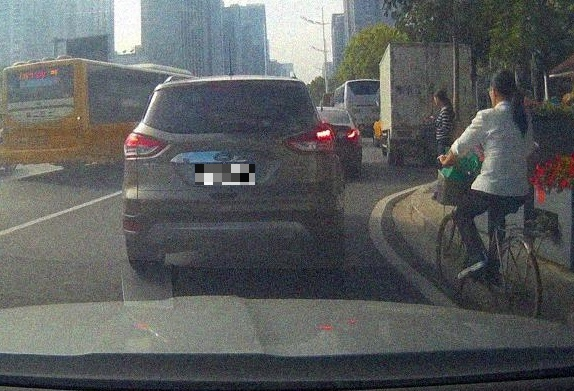L_light: (123, 132, 167, 158)
R_light: (285, 124, 336, 152)
T_light: (218, 82, 241, 87)
day-right: (121, 75, 343, 271)
plate_1: (195, 164, 255, 185)
